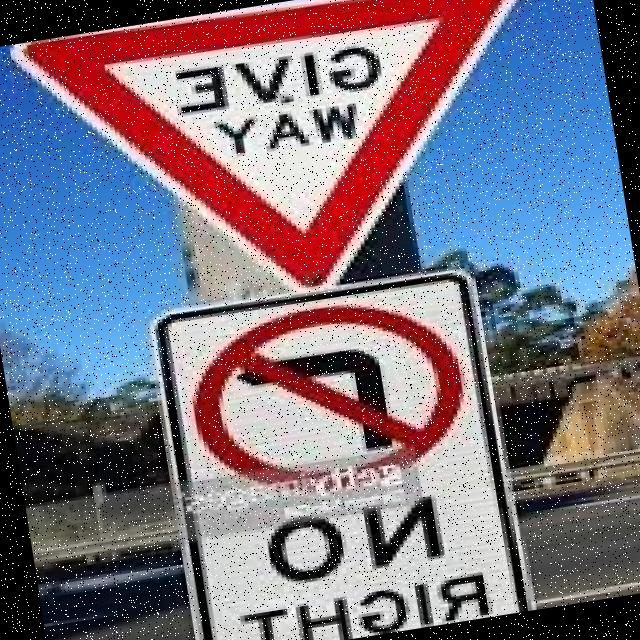do_not_turn_right: (184, 284, 486, 512)
